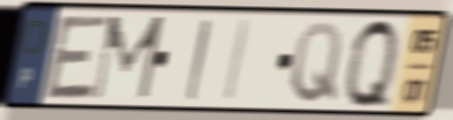E: (42, 12, 113, 103)
I: (220, 16, 255, 105), (183, 16, 214, 104)
M: (88, 13, 168, 104)
Q: (343, 14, 401, 114), (288, 18, 345, 106)
